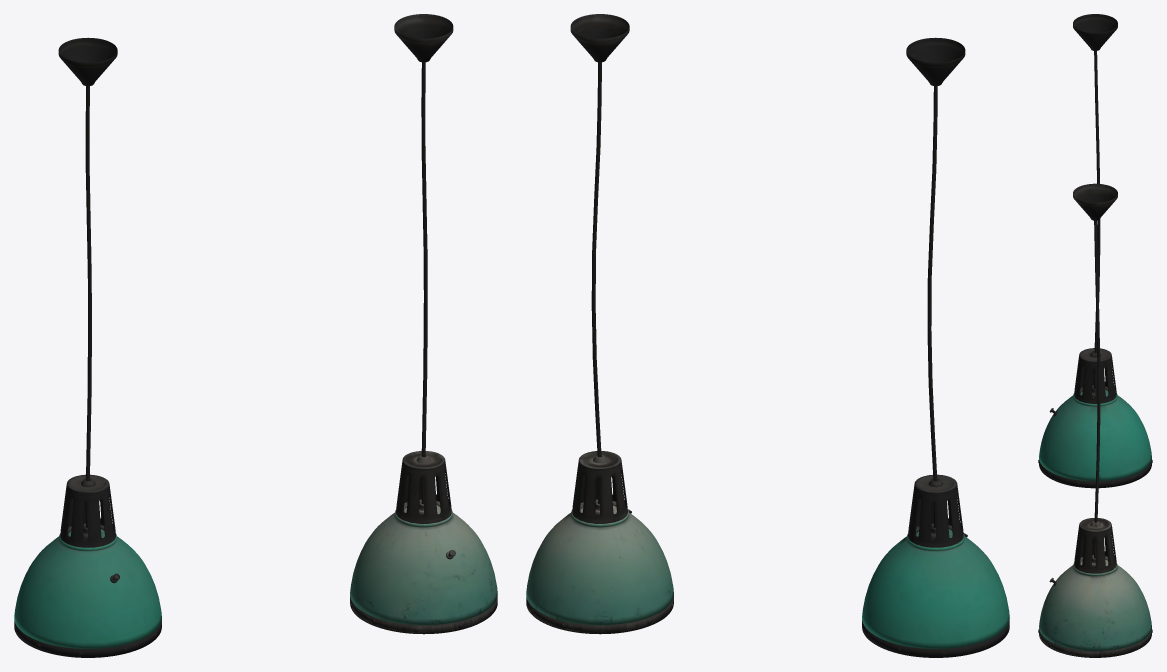
The model's file is retro-light.glb.
The picture shows the model from 3 angles, left to right: view 1: azimuth 30°, elevation 25°; view 2: azimuth 150°, elevation 25°; view 3: azimuth 270°, elevation 25°; orthographic projection. The views are drawn at different scales.
Visible parts, largest first — view 1: Broken_retro_light_old_retro_light_mat_0, Clean_retro_light_clean_retro_light_mat_0; view 2: Clean_retro_light_clean_retro_light_mat_0, Broken_retro_light_old_retro_light_mat_0; view 3: Broken_retro_light_old_retro_light_mat_0, Clean_retro_light_clean_retro_light_mat_0.
Boxes of the visible parts, x1,y1,x2,y2 form: Broken_retro_light_old_retro_light_mat_0: (350, 14, 497, 634); Clean_retro_light_clean_retro_light_mat_0: (14, 37, 161, 657); Clean_retro_light_clean_retro_light_mat_0: (862, 37, 1009, 657); Broken_retro_light_old_retro_light_mat_0: (526, 14, 673, 634); Broken_retro_light_old_retro_light_mat_0: (1038, 183, 1152, 657); Clean_retro_light_clean_retro_light_mat_0: (1038, 14, 1152, 488).
Size of the model in its own units: 0.306 by 0.4 by 0.0855.
6 materials, 4 textured.
